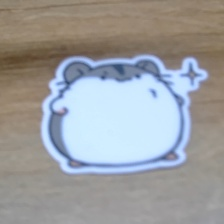mouse: (37, 53, 210, 175)
